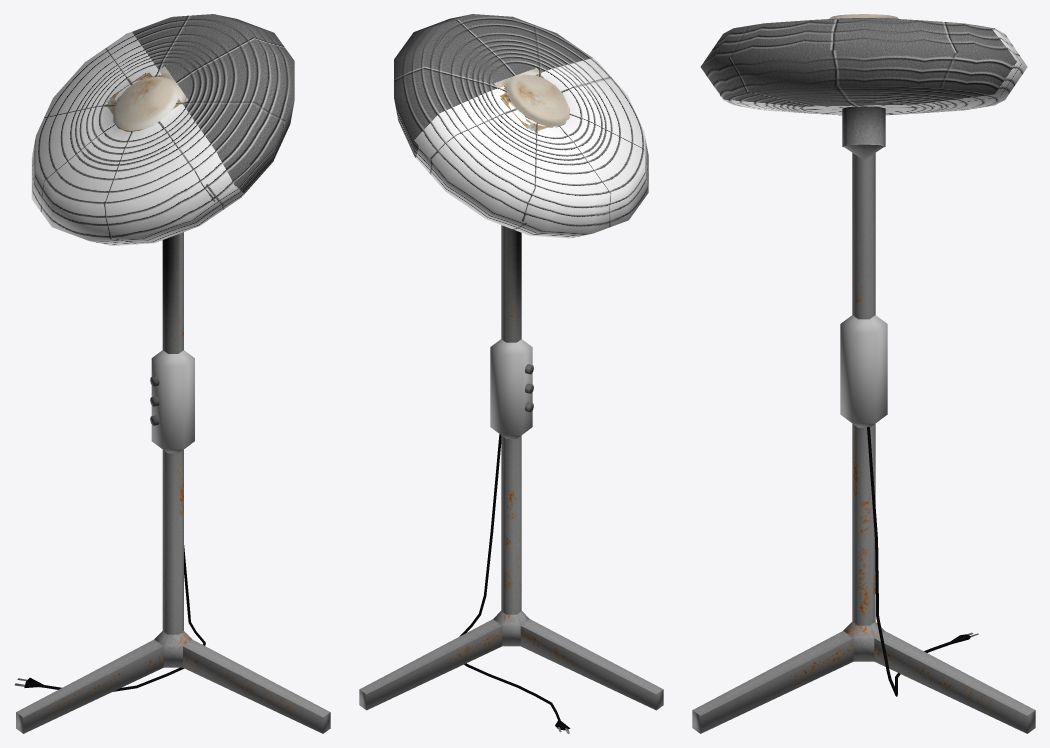
File: fan.fbx
The picture shows the model from 3 angles, left to right: view 1: azimuth 30°, elevation 25°; view 2: azimuth 150°, elevation 25°; view 3: azimuth 270°, elevation 25°; orthographic projection. The views are drawn at different scales.
Visible parts, largest first — view 1: Cylinder.002, Cylinder.001, NurbsPath; view 2: Cylinder.002, Cylinder.001, NurbsPath; view 3: Cylinder.002, Cylinder.001, NurbsPath.
Part boxes in pixels (bbox=[...]): Cylinder.002: bbox=[31, 14, 294, 245]; Cylinder.001: bbox=[16, 232, 330, 733]; NurbsPath: bbox=[15, 545, 205, 691]; Cylinder.002: bbox=[394, 14, 648, 238]; Cylinder.001: bbox=[359, 225, 663, 710]; NurbsPath: bbox=[459, 434, 570, 733]; Cylinder.002: bbox=[700, 14, 1027, 159]; Cylinder.001: bbox=[692, 153, 1035, 733]; NurbsPath: bbox=[867, 426, 978, 696].
Size of the model in its own units: 44.97 by 110 by 48.1.
2 materials, 2 textured.
